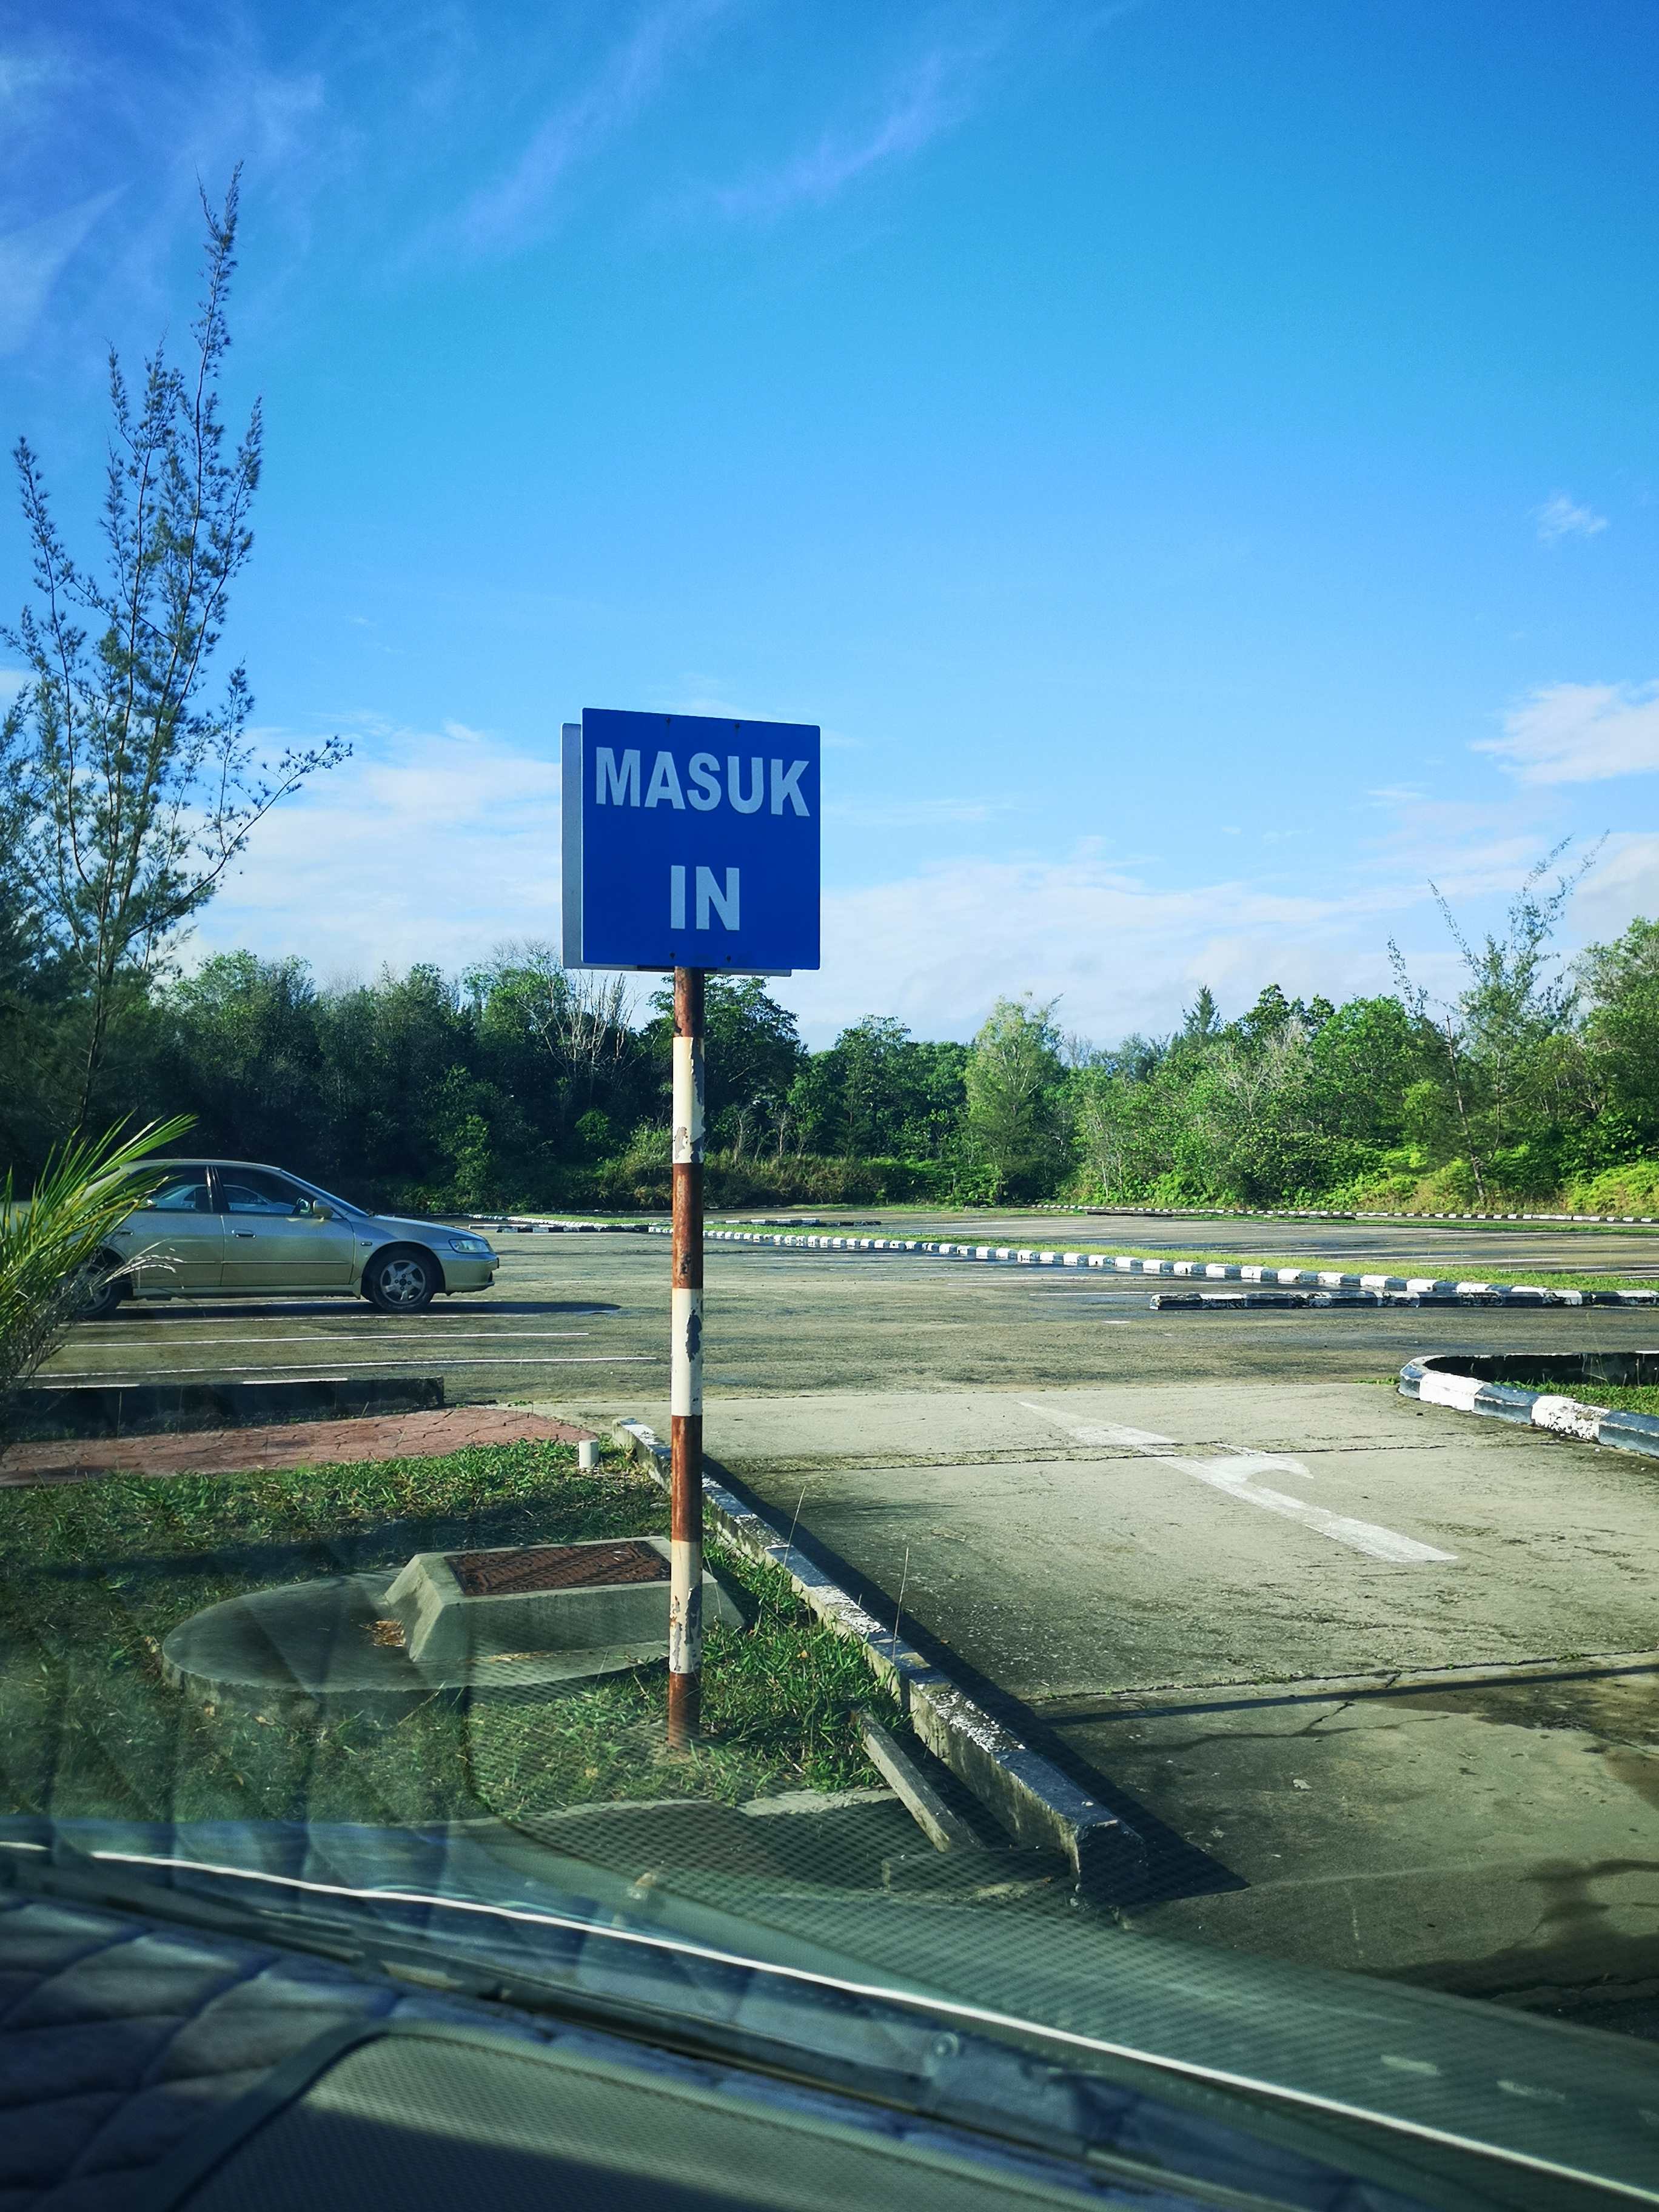in: (577, 700, 826, 984)
